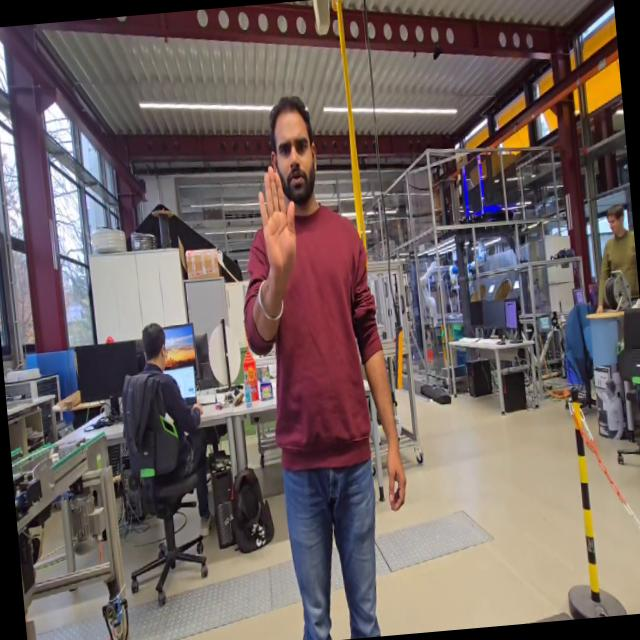open_palm: (250, 150, 306, 301)
